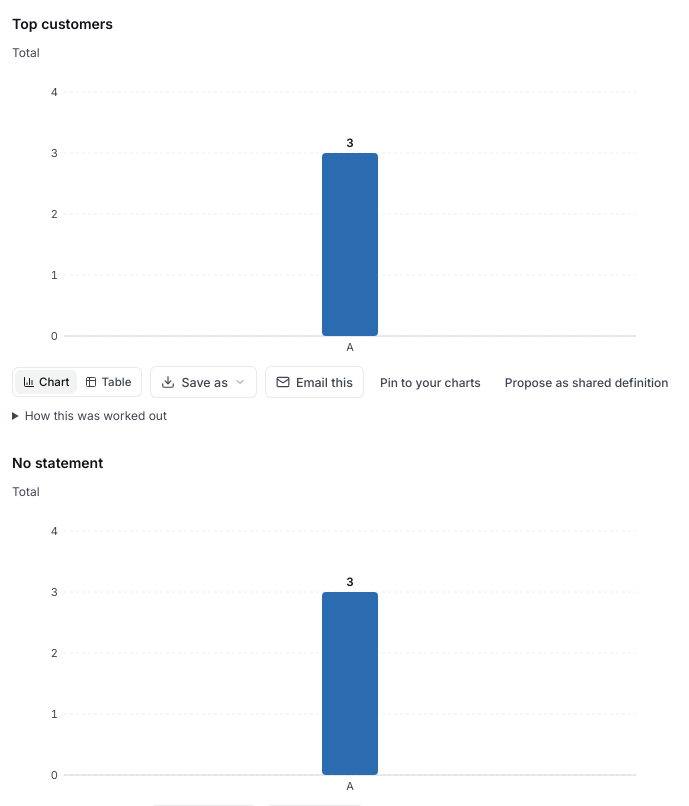
it: insights dashboard › pins an answer's chart with its own statement and columns, and only a chart that has one
Click the button "Pin to your charts" at (430, 382), box [372,368,489,396]
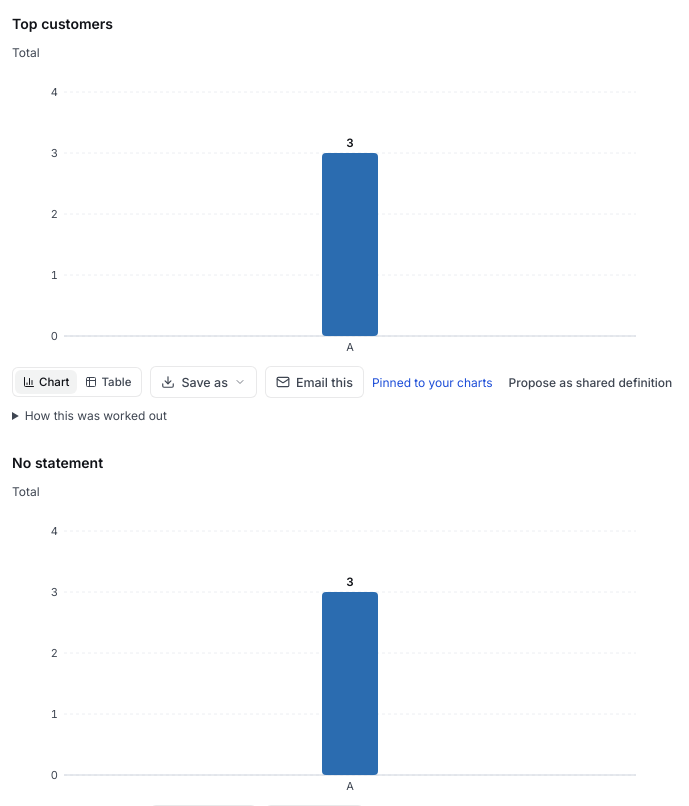
expect the link "Pinned to your charts" is shown: met, box [372,374,492,390]
